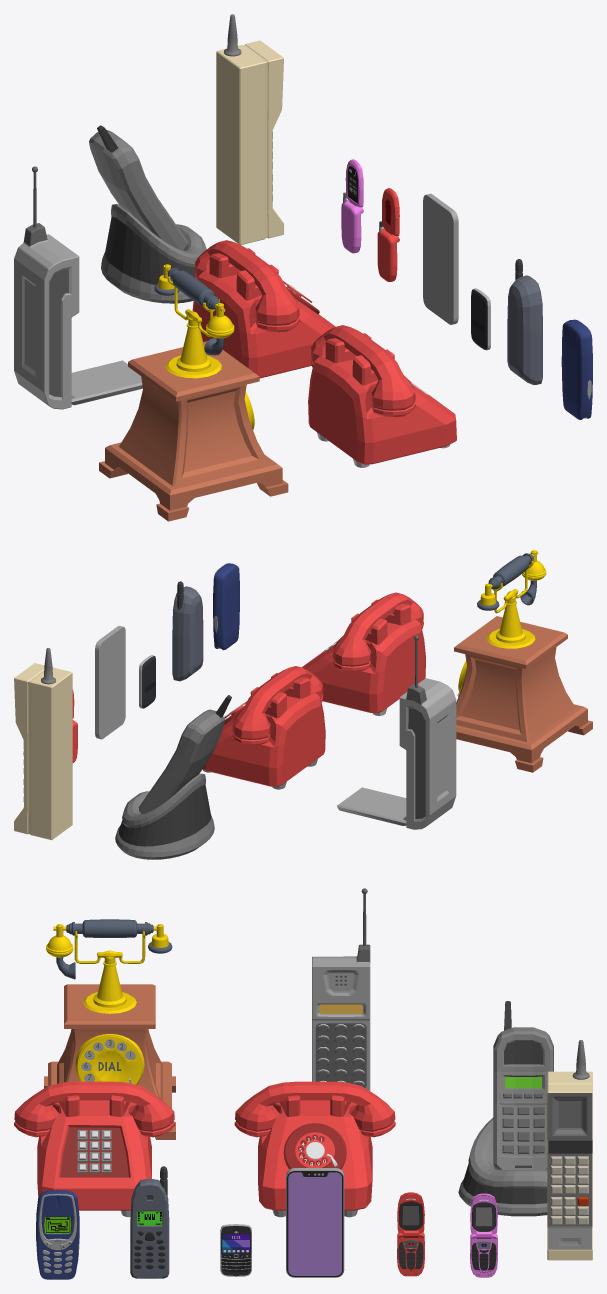
Rendered from Phones.fbx.
3 views of the same model, one above another, from view 1: azimuth 30°, elevation 25°; view 2: azimuth 150°, elevation 25°; view 3: azimuth 270°, elevation 25° (orthographic). The views are drawn at different scales.
Visible parts, largest first — view 1: 1920s_telephone, OldAntennaPhone, red_phone_w_buttons, AntennaFlip, red_phone, wireless_house_phone_stand, WirelessPhone, Phone, AntennaKeyboardPhone, red_phone_w_buttons_receiver, red_phone_receiver, KeyboardPhone (+7 smaller); view 2: 1920s_telephone, OldAntennaPhone, AntennaFlip, red_phone, red_phone_w_buttons, wireless_house_phone_stand, WirelessPhone, Phone, AntennaKeyboardPhone, red_phone_receiver, red_phone_w_buttons_receiver, KeyboardPhone (+3 smaller); view 3: red_phone_w_buttons, 1920s_telephone, red_phone, OldAntennaPhone, WirelessPhone, AntennaFlip, Phone, red_phone_receiver, red_phone_w_buttons_receiver, wireless_house_phone_stand, AntennaKeyboardPhone, KeyboardPhone (+7 smaller).
Boxes of the visible parts, <box> form: 1920s_telephone: <box>99,276,288,521</box>; OldAntennaPhone: <box>216,14,283,244</box>; red_phone_w_buttons: <box>308,333,456,467</box>; AntennaFlip: <box>14,166,79,409</box>; red_phone: <box>192,248,335,378</box>; wireless_house_phone_stand: <box>101,204,206,303</box>; WirelessPhone: <box>89,125,188,250</box>; Phone: <box>423,193,458,324</box>; AntennaKeyboardPhone: <box>507,259,542,384</box>; red_phone_w_buttons_receiver: <box>310,325,415,417</box>; red_phone_receiver: <box>194,240,299,332</box>; KeyboardPhone: <box>561,319,592,419</box>; 1920s_telephone: <box>454,560,592,772</box>; OldAntennaPhone: <box>14,648,72,840</box>; AntennaFlip: <box>399,635,456,829</box>; red_phone: <box>202,673,325,789</box>; red_phone_w_buttons: <box>302,599,425,715</box>; wireless_house_phone_stand: <box>115,773,214,859</box>; WirelessPhone: <box>138,695,231,813</box>; Phone: <box>95,626,125,739</box>; AntennaKeyboardPhone: <box>172,581,203,681</box>; red_phone_receiver: <box>232,666,323,745</box>; red_phone_w_buttons_receiver: <box>333,592,423,672</box>; KeyboardPhone: <box>213,563,239,650</box>; red_phone_w_buttons: <box>37,1095,151,1217</box>; 1920s_telephone: <box>44,931,175,1139</box>; red_phone: <box>258,1095,372,1217</box>; OldAntennaPhone: <box>547,1040,592,1260</box>; WirelessPhone: <box>493,1001,553,1169</box>; AntennaFlip: <box>312,888,370,1090</box>; Phone: <box>286,1168,344,1277</box>; red_phone_receiver: <box>234,1081,395,1137</box>; red_phone_w_buttons_receiver: <box>14,1081,175,1137</box>; wireless_house_phone_stand: <box>458,1117,547,1216</box>; AntennaKeyboardPhone: <box>130,1166,169,1278</box>; KeyboardPhone: <box>36,1190,79,1279</box>.
Size of the model in its own units: 130 by 65.76 by 162.
